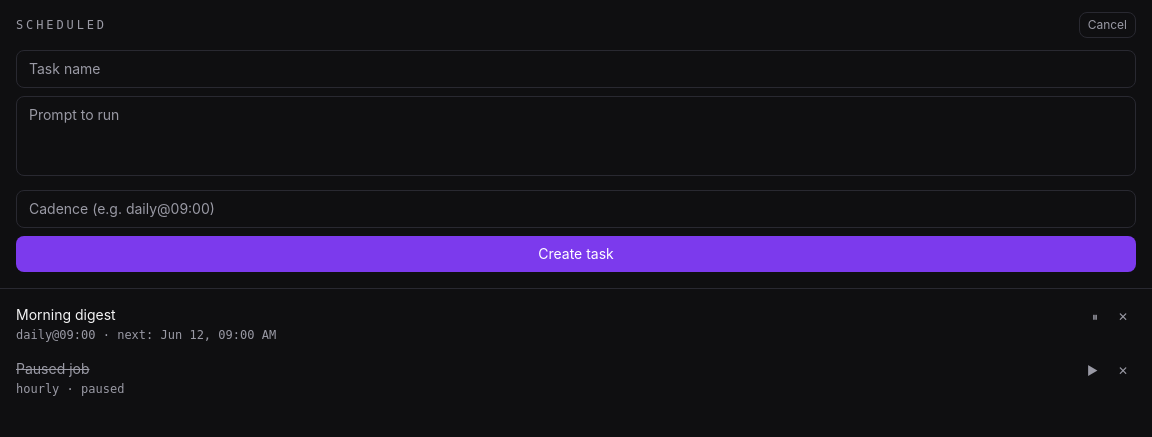
Test case: ScheduledPanel › rejects an invalid cadence
The width and height of the screenshot is (1152, 437).
Type "Bad" into the field labelled "Task name" at {"x": 576, "y": 69}, box [16, 50, 1136, 88]
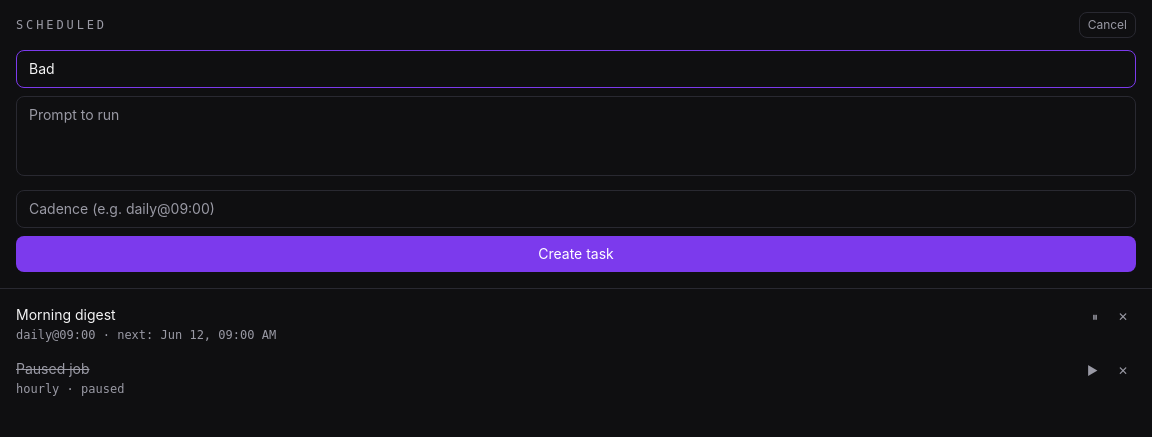
Type "p" into the text box named "Task prompt" at {"x": 576, "y": 136}, box [16, 96, 1136, 176]
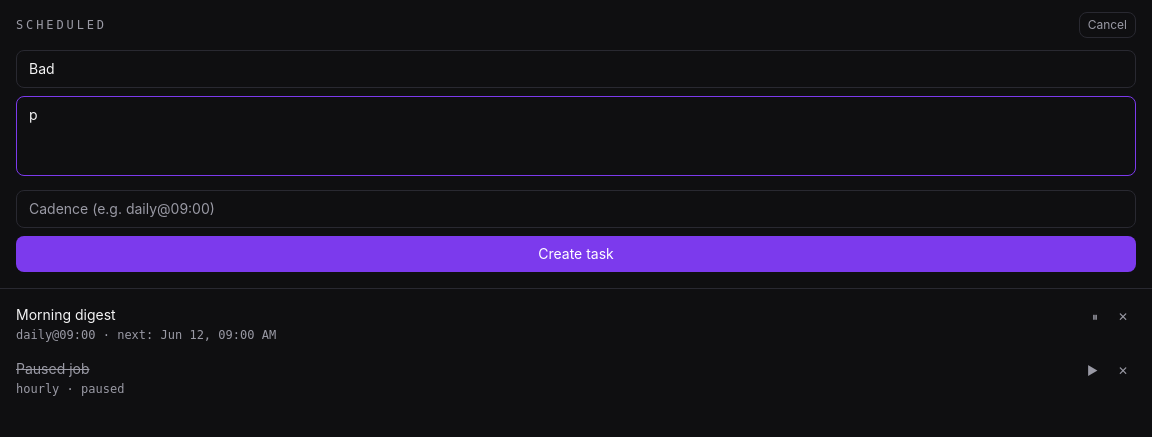
Type "whenever" into the field named "Task cadence" at {"x": 576, "y": 209}, box [16, 190, 1136, 228]
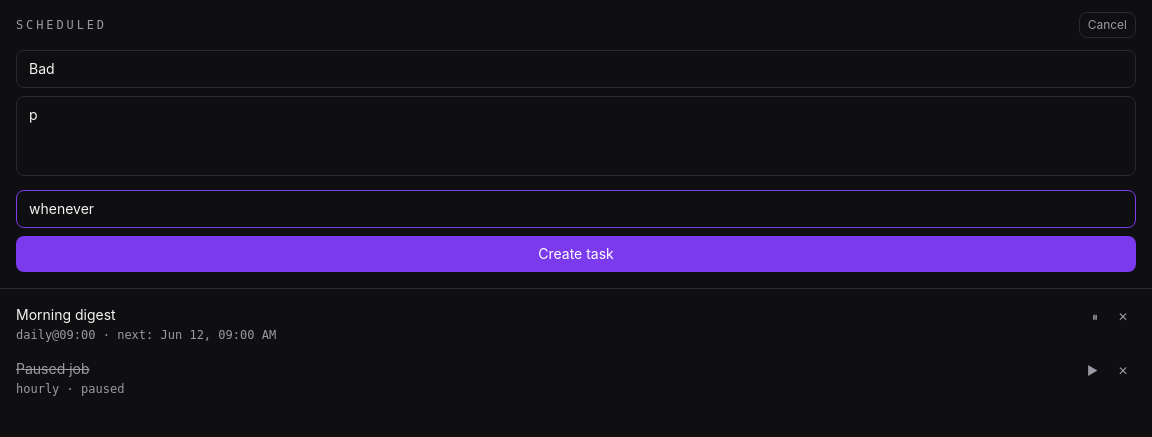
Click the button "Create task" at {"x": 576, "y": 254}, box [16, 236, 1136, 272]
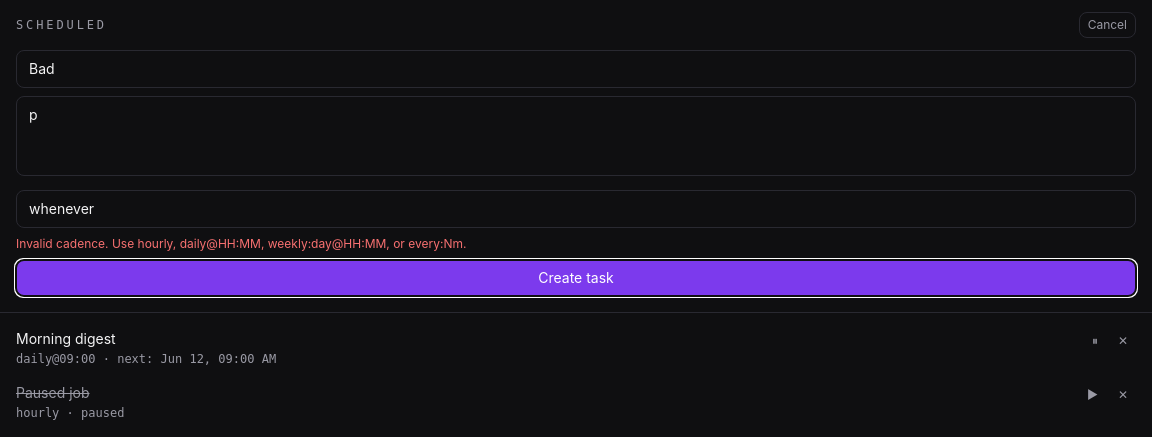
Check: the text "Invalid cadence" is shown, box [16, 236, 466, 251]
